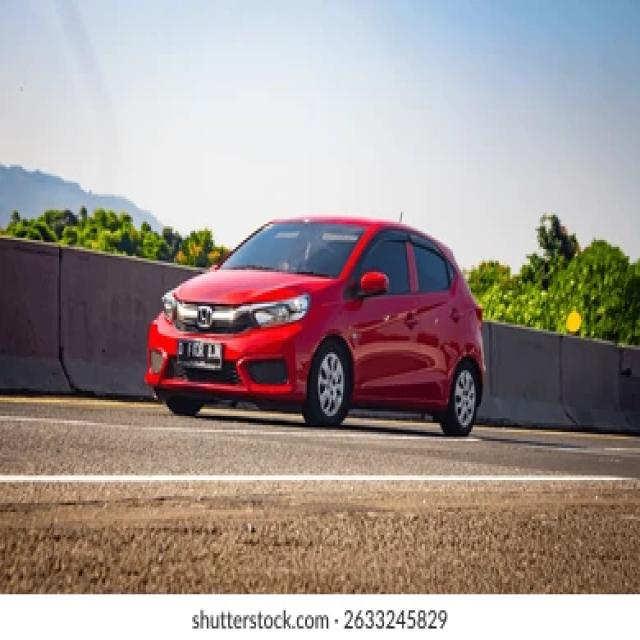honda: (197, 307, 214, 332)
